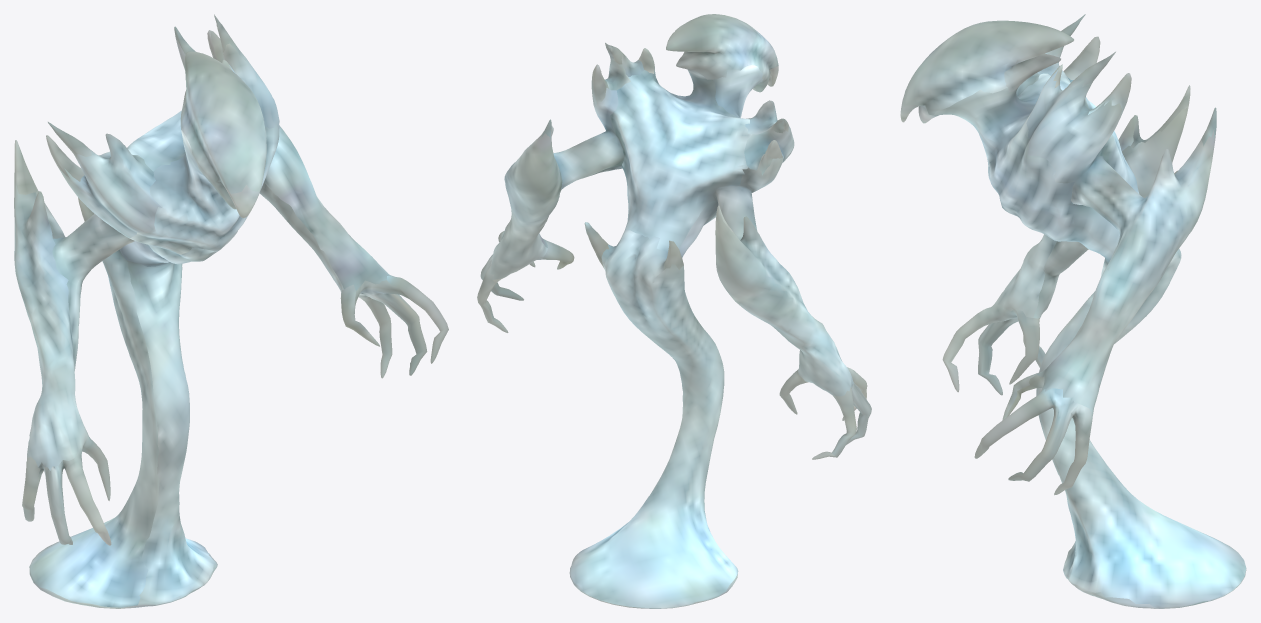
Rendered from MZ4250 - Animated Breath_Ice.glb.
3 renders of one model, left to right at view 1: azimuth 30°, elevation 25°; view 2: azimuth 150°, elevation 25°; view 3: azimuth 270°, elevation 25°, orthographic. The views are drawn at different scales.
Visible parts, largest first — view 1: ORGANIC BASE SPHERE.001; view 2: ORGANIC BASE SPHERE.001; view 3: ORGANIC BASE SPHERE.001.
Boxes of the visible parts, bbox=[...] form: ORGANIC BASE SPHERE.001: bbox=[14, 14, 448, 608]; ORGANIC BASE SPHERE.001: bbox=[477, 14, 871, 608]; ORGANIC BASE SPHERE.001: bbox=[900, 14, 1246, 608].
Bounding box in the file's own units: 118 × 156 × 87.59.
Materials: 1 (1 with a texture image).
